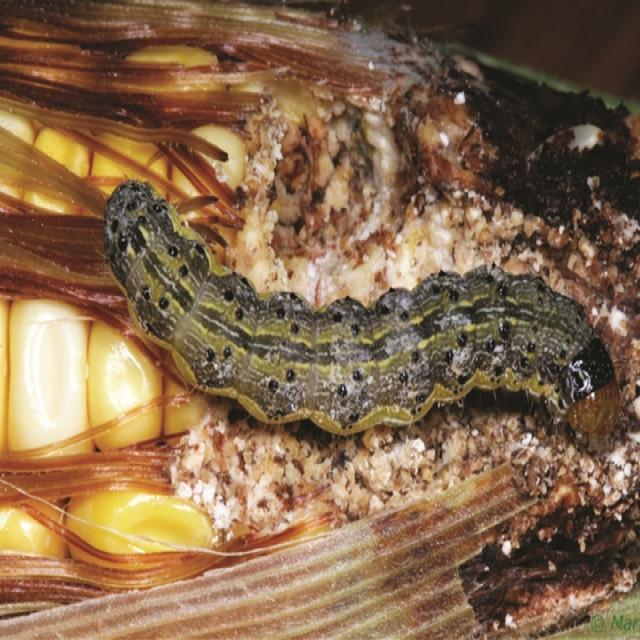Corn-earworm: (92, 158, 621, 464)
